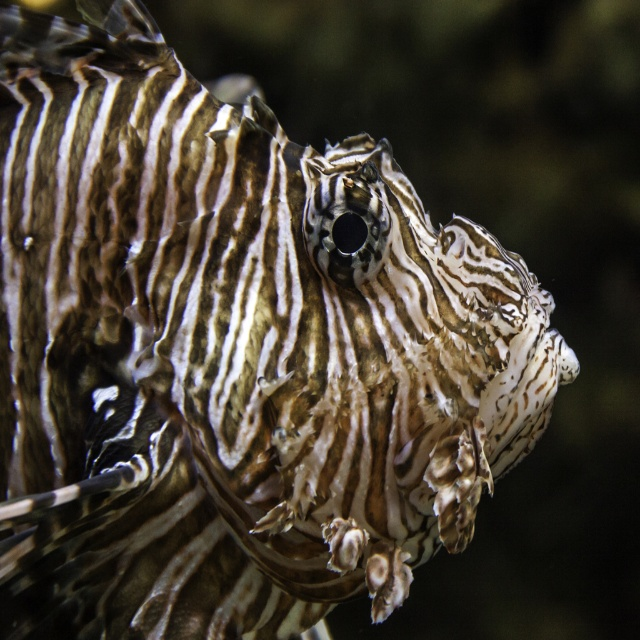Fish: (0, 1, 580, 639)
